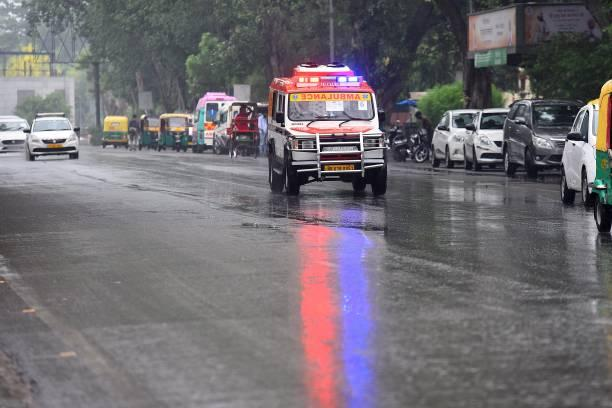AMBULANCE: (265, 62, 398, 216), (289, 90, 374, 106), (292, 72, 365, 90)
